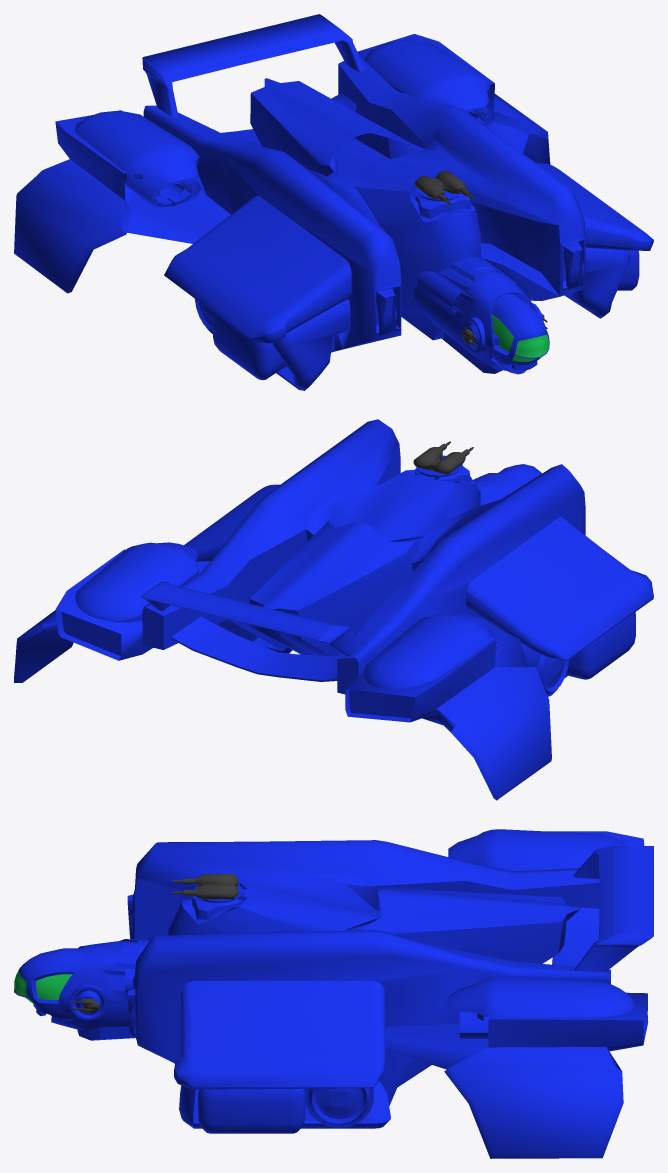
File: Empire TRansport Ship.FBX
3 views of the same model, one above another, from view 1: azimuth 30°, elevation 25°; view 2: azimuth 150°, elevation 25°; view 3: azimuth 270°, elevation 25° (orthographic). The views are drawn at different scales.
Parts seen in each view (by area): view 1: ChamferBox002, Box011, Capsule004, Box004, Box002, ChamferBox001, Capsule001, Box012, Cylinder001, Cylinder002, ChamferBox003; view 2: ChamferBox002, Box011, Capsule004, Box004, ChamferBox001, Box002, Box012; view 3: ChamferBox002, Box011, Capsule004, Box004, Box002, ChamferBox003, Box012, Capsule003.
Boxes of the visible parts, bbox=[...] form: ChamferBox002: bbox=[143, 56, 653, 390]; Box011: bbox=[14, 34, 550, 293]; Capsule004: bbox=[75, 39, 489, 183]; Box004: bbox=[142, 14, 365, 117]; Box002: bbox=[414, 257, 543, 373]; ChamferBox001: bbox=[213, 313, 286, 380]; Capsule001: bbox=[124, 173, 201, 209]; Box012: bbox=[414, 170, 466, 199]; Cylinder001: bbox=[376, 288, 397, 335]; Cylinder002: bbox=[563, 242, 584, 289]; ChamferBox003: bbox=[617, 250, 639, 290]; ChamferBox002: bbox=[142, 419, 653, 696]; Box011: bbox=[14, 549, 551, 800]; Capsule004: bbox=[75, 542, 490, 688]; Box004: bbox=[140, 581, 363, 656]; ChamferBox001: bbox=[566, 612, 635, 679]; Box002: bbox=[473, 473, 525, 505]; Box012: bbox=[413, 447, 465, 474]; ChamferBox002: bbox=[14, 840, 610, 1128]; Box011: bbox=[385, 831, 648, 1158]; Capsule004: bbox=[448, 829, 635, 1020]; Box004: bbox=[574, 846, 653, 971]; Box002: bbox=[54, 939, 149, 1040]; ChamferBox003: bbox=[198, 1088, 305, 1133]; Box012: bbox=[195, 874, 238, 899]; Capsule003: bbox=[459, 1011, 488, 1038].
Bounding box in the file's own units: 170 × 57.12 × 187.
